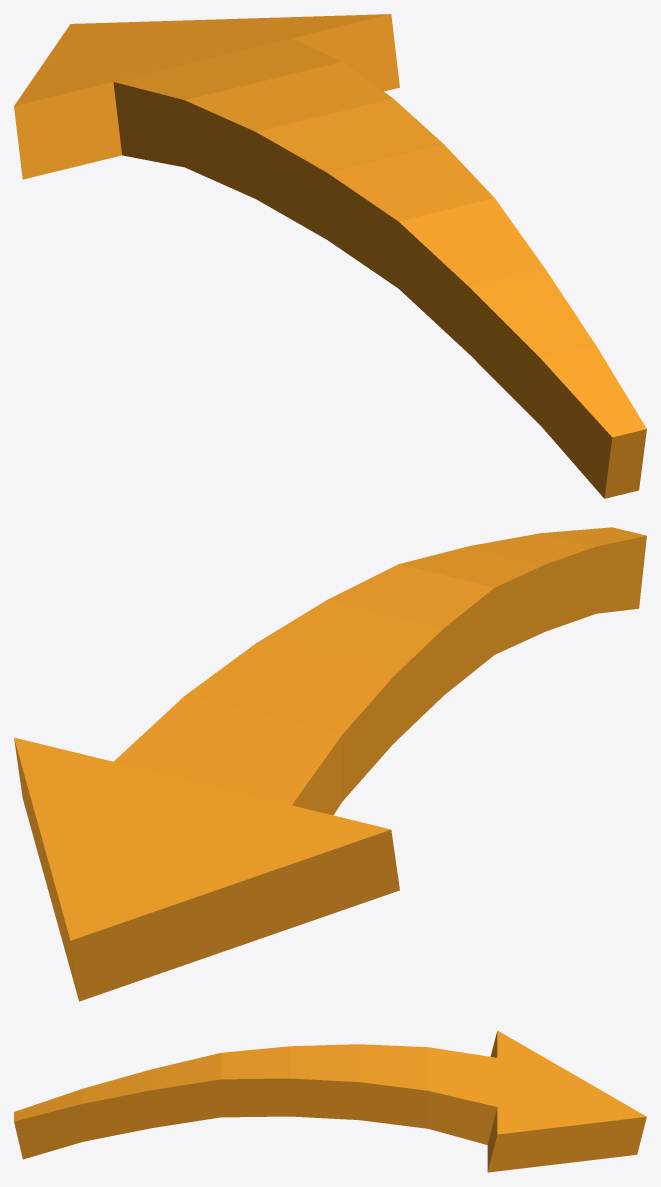
The model's file is SM_Icon_Arrow_Long_01.fbx.
The picture shows the model from 3 angles, top to bottom: view 1: azimuth 30°, elevation 25°; view 2: azimuth 150°, elevation 25°; view 3: azimuth 270°, elevation 25°; orthographic projection. The views are drawn at different scales.
Visible parts, largest first — view 1: SM_Icon_Arrow_Long_01; view 2: SM_Icon_Arrow_Long_01; view 3: SM_Icon_Arrow_Long_01.
Part boxes in pixels (left/top/right/bottom): SM_Icon_Arrow_Long_01: left=14, top=14, right=646, bottom=498; SM_Icon_Arrow_Long_01: left=14, top=527, right=646, bottom=1001; SM_Icon_Arrow_Long_01: left=14, top=1030, right=646, bottom=1172.
Bounding box in the file's own units: 45.28 × 18.72 × 116.
